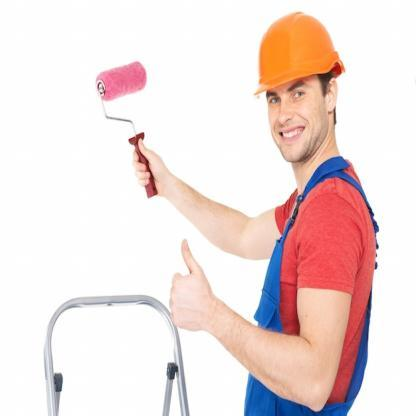thumb_up: (166, 236, 217, 343)
